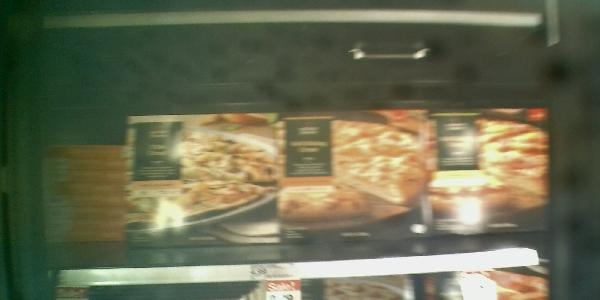pizza: (127, 113, 280, 248), (281, 110, 427, 238), (429, 110, 550, 234)
pizza1: (45, 236, 128, 255), (37, 143, 129, 160), (42, 216, 122, 234), (41, 198, 128, 214), (41, 182, 129, 197), (41, 165, 128, 180)
